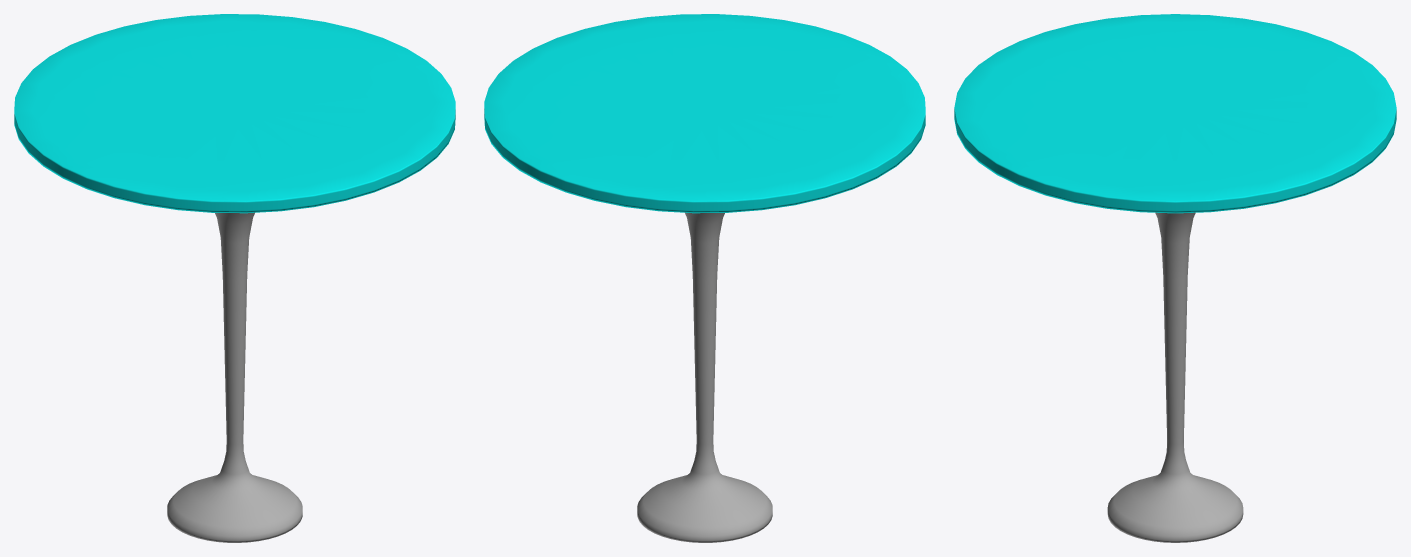
File: Table.fbx
3 renders of one model, left to right at view 1: azimuth 30°, elevation 25°; view 2: azimuth 150°, elevation 25°; view 3: azimuth 270°, elevation 25°, orthographic.
Parts seen in each view (by area): view 1: polySurface2, polySurface1; view 2: polySurface2, polySurface1; view 3: polySurface2, polySurface1.
Part boxes in pixels (bbox=[...]): polySurface2: bbox=[14, 14, 455, 213]; polySurface1: bbox=[167, 212, 302, 542]; polySurface2: bbox=[484, 14, 925, 213]; polySurface1: bbox=[637, 212, 772, 542]; polySurface2: bbox=[954, 14, 1396, 213]; polySurface1: bbox=[1107, 212, 1243, 542].
Bounding box in the file's own units: 3.32 × 3.39 × 3.32.
